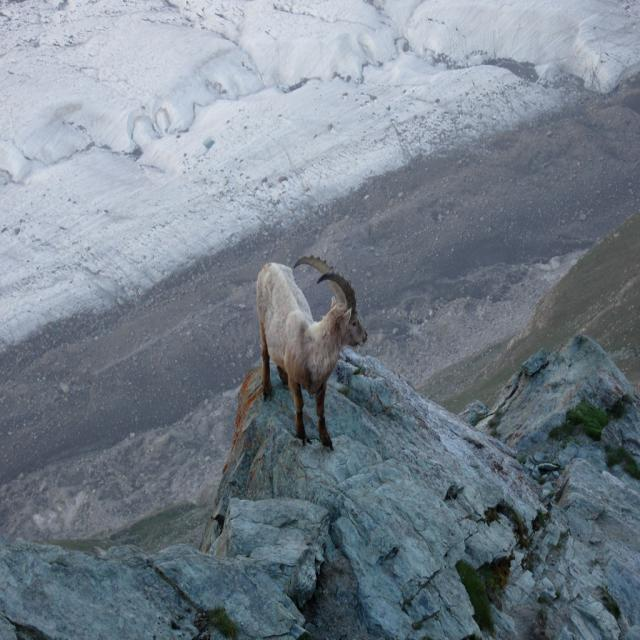Goat: (255, 253, 367, 450)
